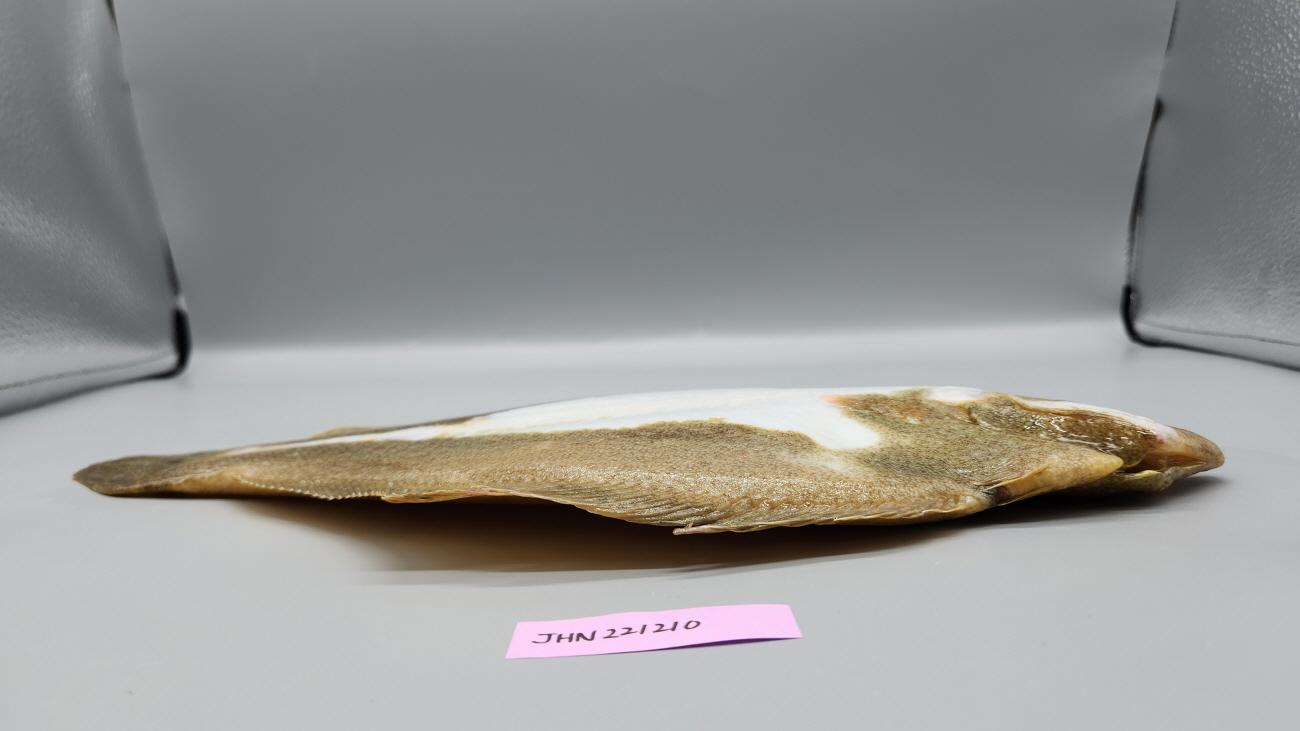POOUN: (70, 385, 1225, 540)
